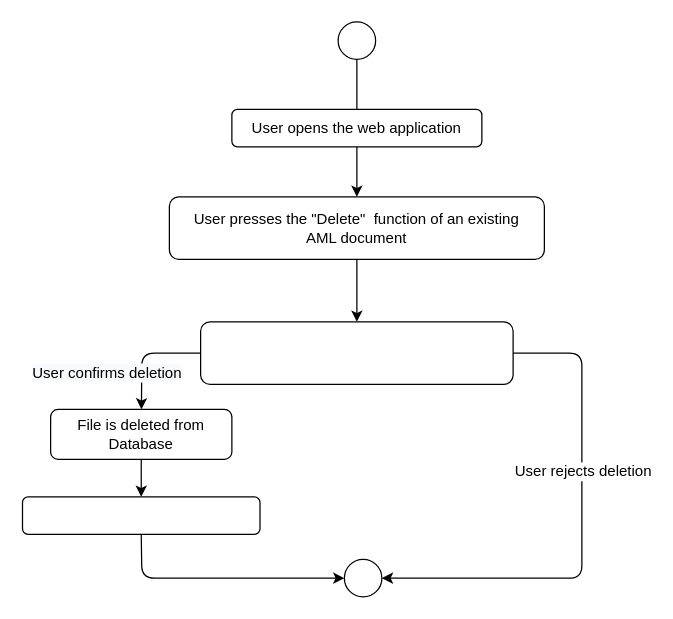
The diagram is 673 pixels wide and 619 high, and some of its shapes have lost their labels. Here are the shapes that lost their labels. From the top down, the box of each, then its label:
(199, 321, 513, 384): Confirmation dialog is opened
(21, 496, 260, 534): Status of deletion is displayed
